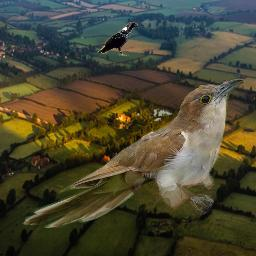Crow: (97, 22, 139, 56)
Cuckoo: (22, 77, 245, 228)
